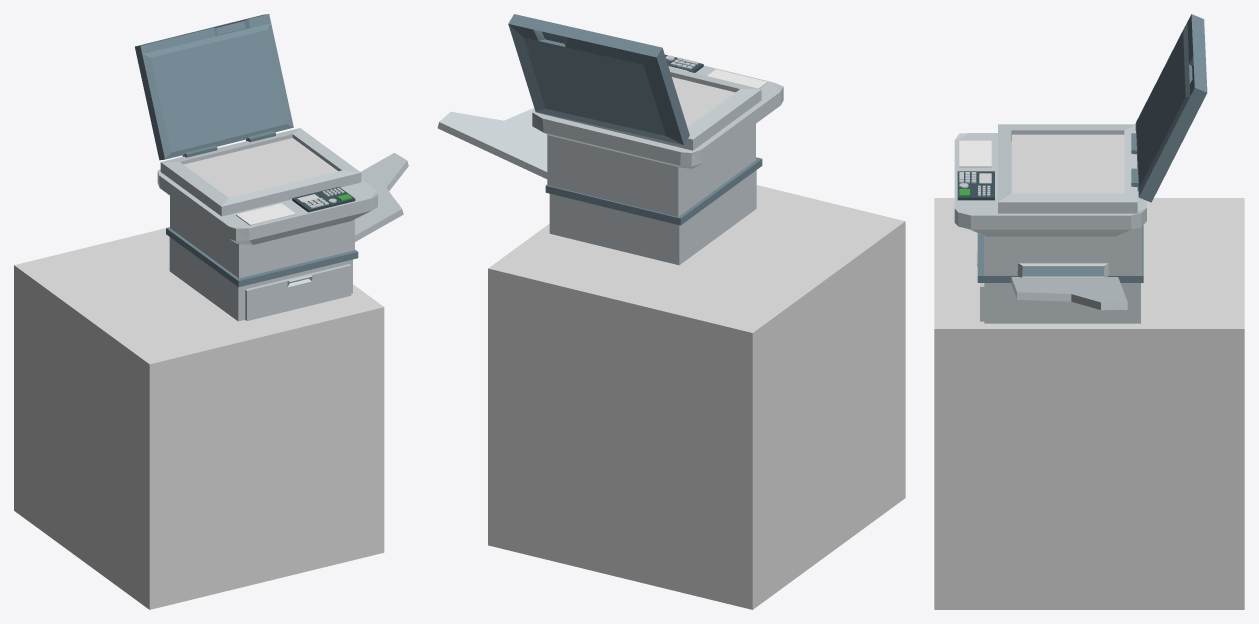
The model's file is printer.fbx.
3 views of the same model, side by side, from view 1: azimuth 30°, elevation 25°; view 2: azimuth 150°, elevation 25°; view 3: azimuth 270°, elevation 25° (orthographic). The views are drawn at different scales.
Parts seen in each view (by area): view 1: Cube, node_MeshObject-1923445056-PolyPaper16, node_MeshObject1277851072-PolyGlass24; view 2: Cube, node_MeshObject-1923445056-PolyPaper16, node_MeshObject1277851072-PolyGlass24; view 3: Cube, node_MeshObject-1923445056-PolyPaper16, node_MeshObject1277851072-PolyGlass24.
Boxes of the visible parts, x1,y1,x2,y2 form: Cube: (14,228,384,609); node_MeshObject-1923445056-PolyPaper16: (135,14,408,321); node_MeshObject1277851072-PolyGlass24: (184,138,337,202); Cube: (488,185,905,609); node_MeshObject-1923445056-PolyPaper16: (437,14,783,265); node_MeshObject1277851072-PolyGlass24: (668,66,735,127); Cube: (934,198,1244,609); node_MeshObject-1923445056-PolyPaper16: (954,14,1207,323); node_MeshObject1277851072-PolyGlass24: (979,134,1124,193).
Size of the model in its own units: 283 by 372 by 200.
